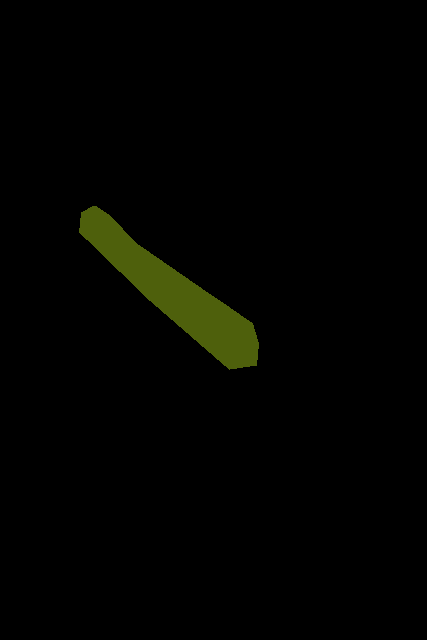Train: (79, 206, 258, 370)
